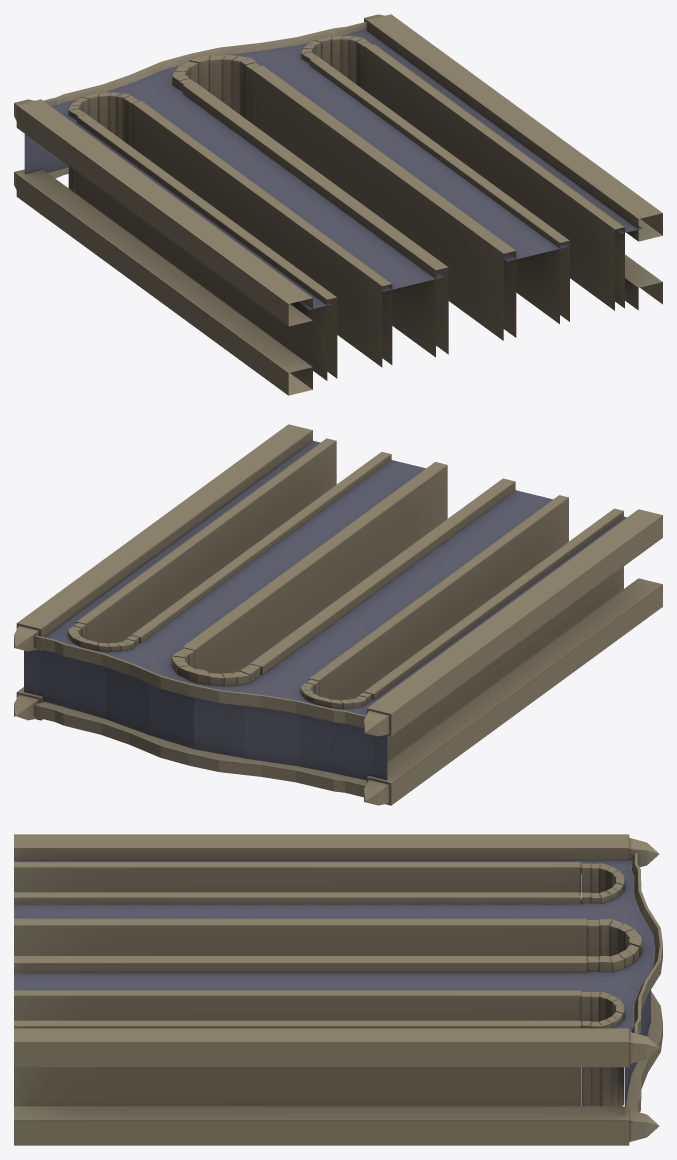
Rendered from PuentePiedra.FBX.
3 renders of one model, top to bottom at view 1: azimuth 30°, elevation 25°; view 2: azimuth 150°, elevation 25°; view 3: azimuth 270°, elevation 25°, orthographic. The views are drawn at different scales.
Parts seen in each view (by area): view 1: Object004; view 2: Object004; view 3: Object004.
Part boxes in pixels (box(x1,y1,x2,y2)): Object004: box(14, 14, 662, 395); Object004: box(14, 424, 662, 805); Object004: box(14, 834, 662, 1145).
Bounding box in the file's own units: 206 × 48.29 × 273.
Materials: 2 (2 with a texture image).
